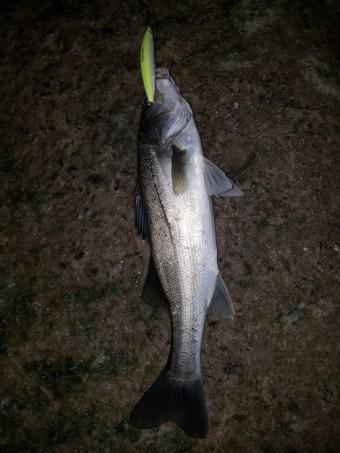fish: (129, 68, 240, 437)
